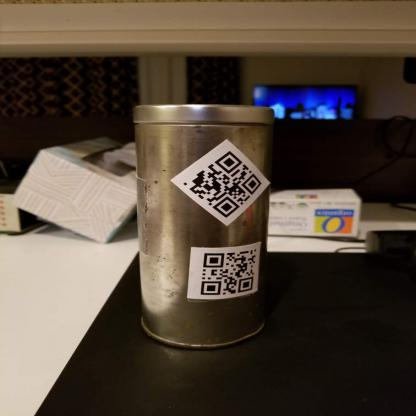qr: (176, 147, 265, 221), (197, 248, 257, 296)
